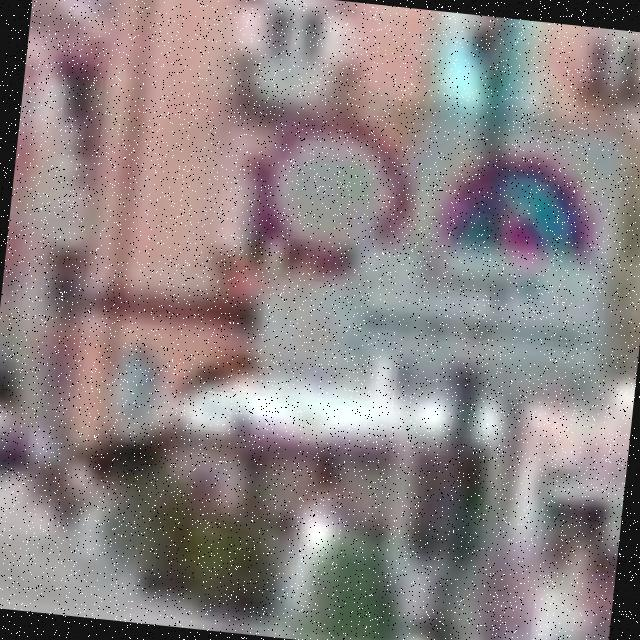Zakaz ruchu w obu kierunkach: (244, 108, 420, 282)
